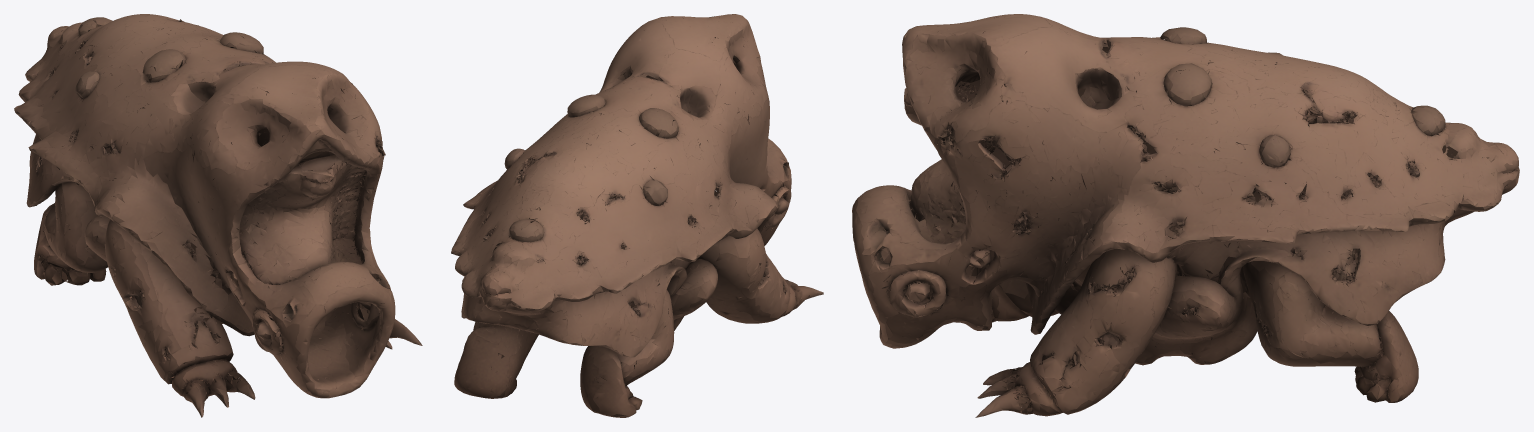
File: lirm-armature-22__basin-03-s3p00-n00-p046-lineage-seed-seed717046.glb
The picture shows the model from 3 angles, left to right: view 1: azimuth 30°, elevation 25°; view 2: azimuth 150°, elevation 25°; view 3: azimuth 270°, elevation 25°; orthographic projection. The views are drawn at different scales.
Visible parts, largest first — view 1: world; view 2: world; view 3: world.
Boxes of the visible parts, x1,y1,x2,y2 form: world: (14,14,422,417); world: (451,14,823,417); world: (852,14,1519,417).
Size of the model in its own units: 0.514 by 0.5561 by 1.
1 material, 1 textured.
